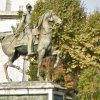Statue: (3, 2, 83, 68)
